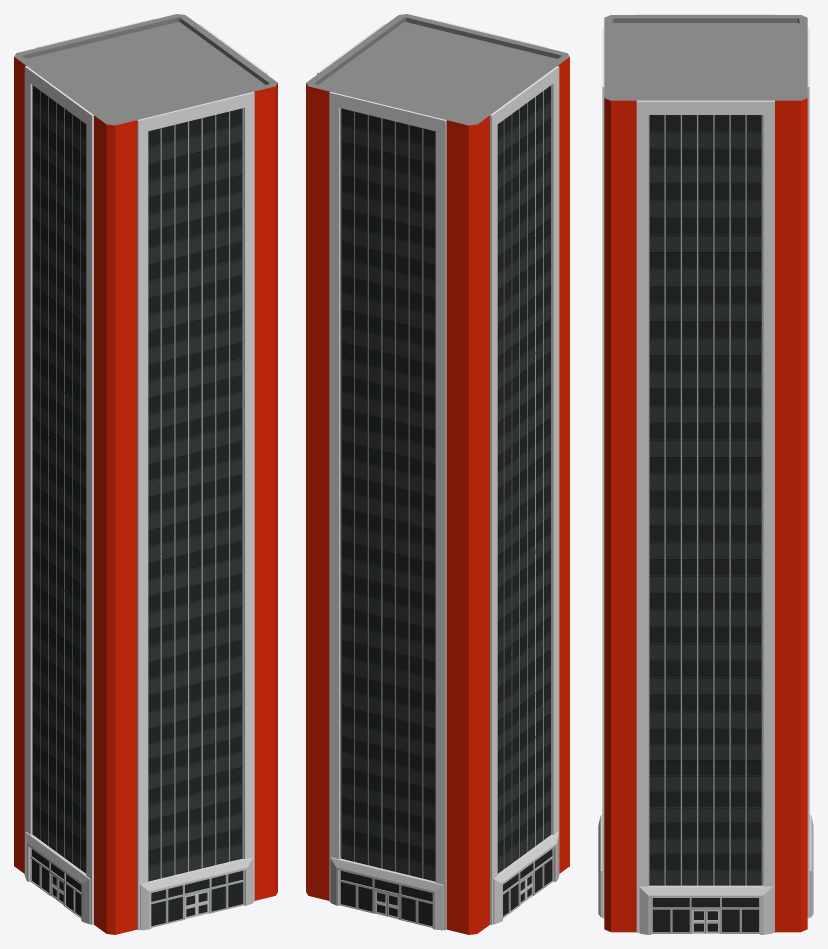
3 views of the same model, side by side, from view 1: azimuth 30°, elevation 25°; view 2: azimuth 150°, elevation 25°; view 3: azimuth 270°, elevation 25° (orthographic). The views are drawn at different scales.
Parts seen in each view (by area): view 1: EC-06; view 2: EC-06; view 3: EC-06.
Part boxes in pixels (x1,y1,x2,y2): EC-06: (14,14,277,934); EC-06: (306,14,569,934); EC-06: (598,14,813,934).
Size of what is drawn, in the model's own units: 18.76 by 79.48 by 18.64.
